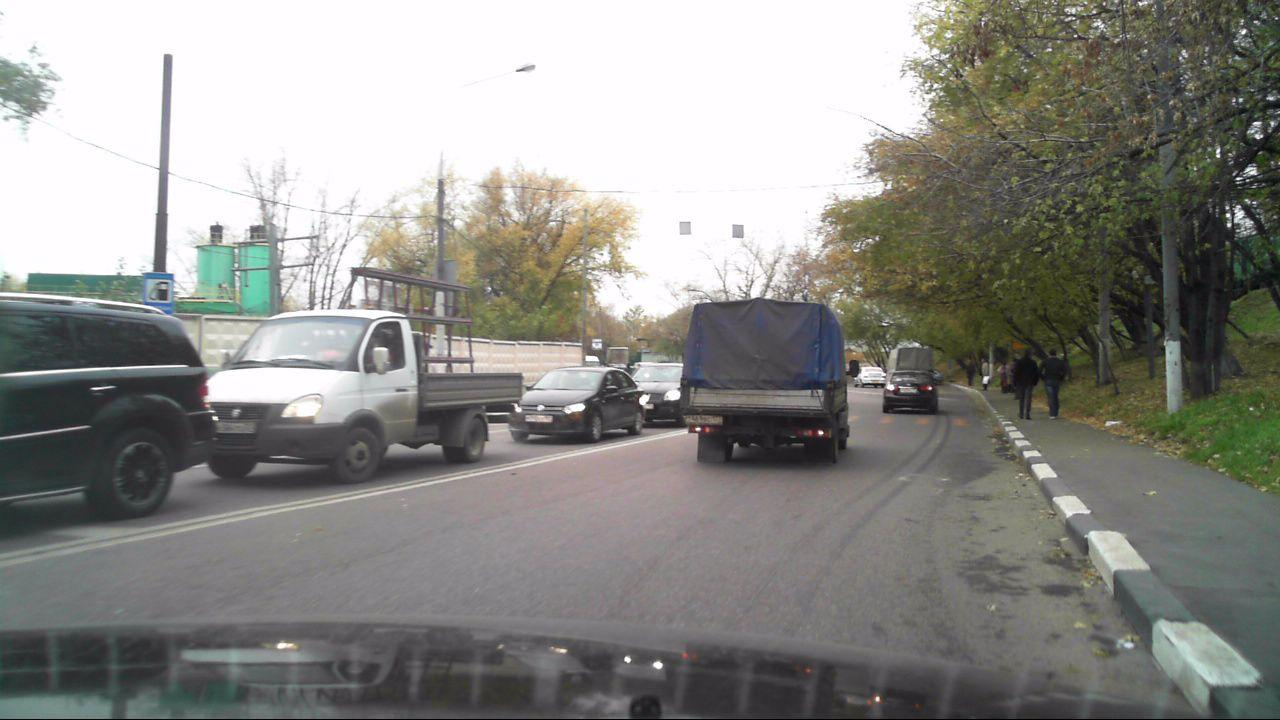7_3: (143, 273, 173, 309)
